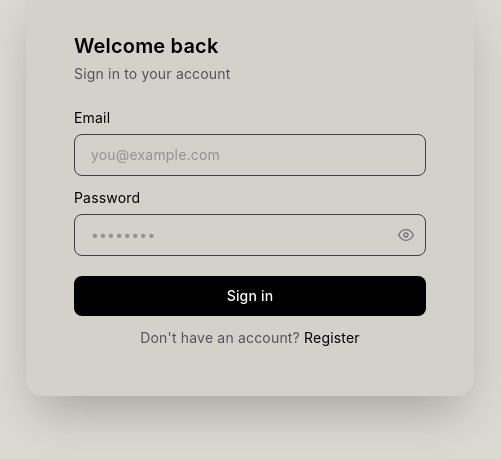
Test: LoginForm › Validation › shows error for short password
The image size is (501, 459).
Type "user@example.com" into the field with placeholder "you@example.com" at (250, 155), box [74,134,426,176]
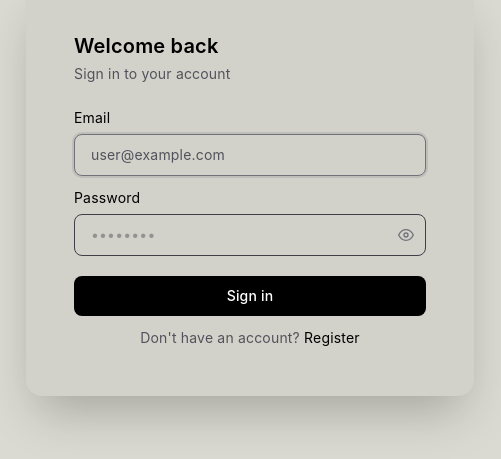
Type "short" into the password field with placeholder "••••••••" at (250, 235), box [74,214,426,256]
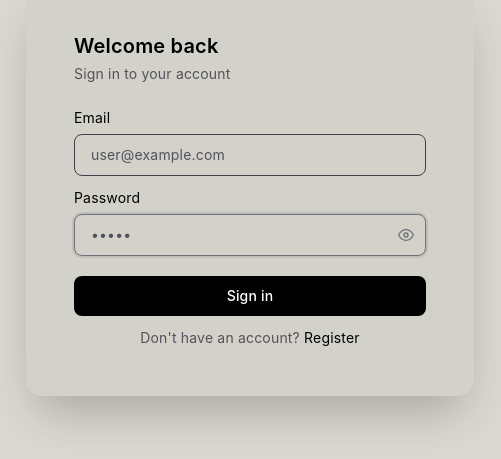
Click the button "Sign in" at (250, 296), box [74,276,426,316]
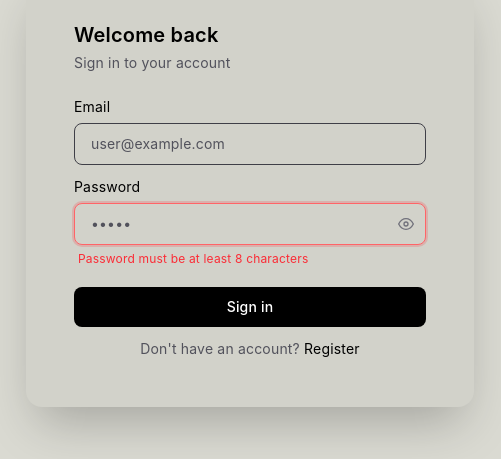
Expected: the text "Password must be at least 8 characters" is shown, [78,251,308,266]
